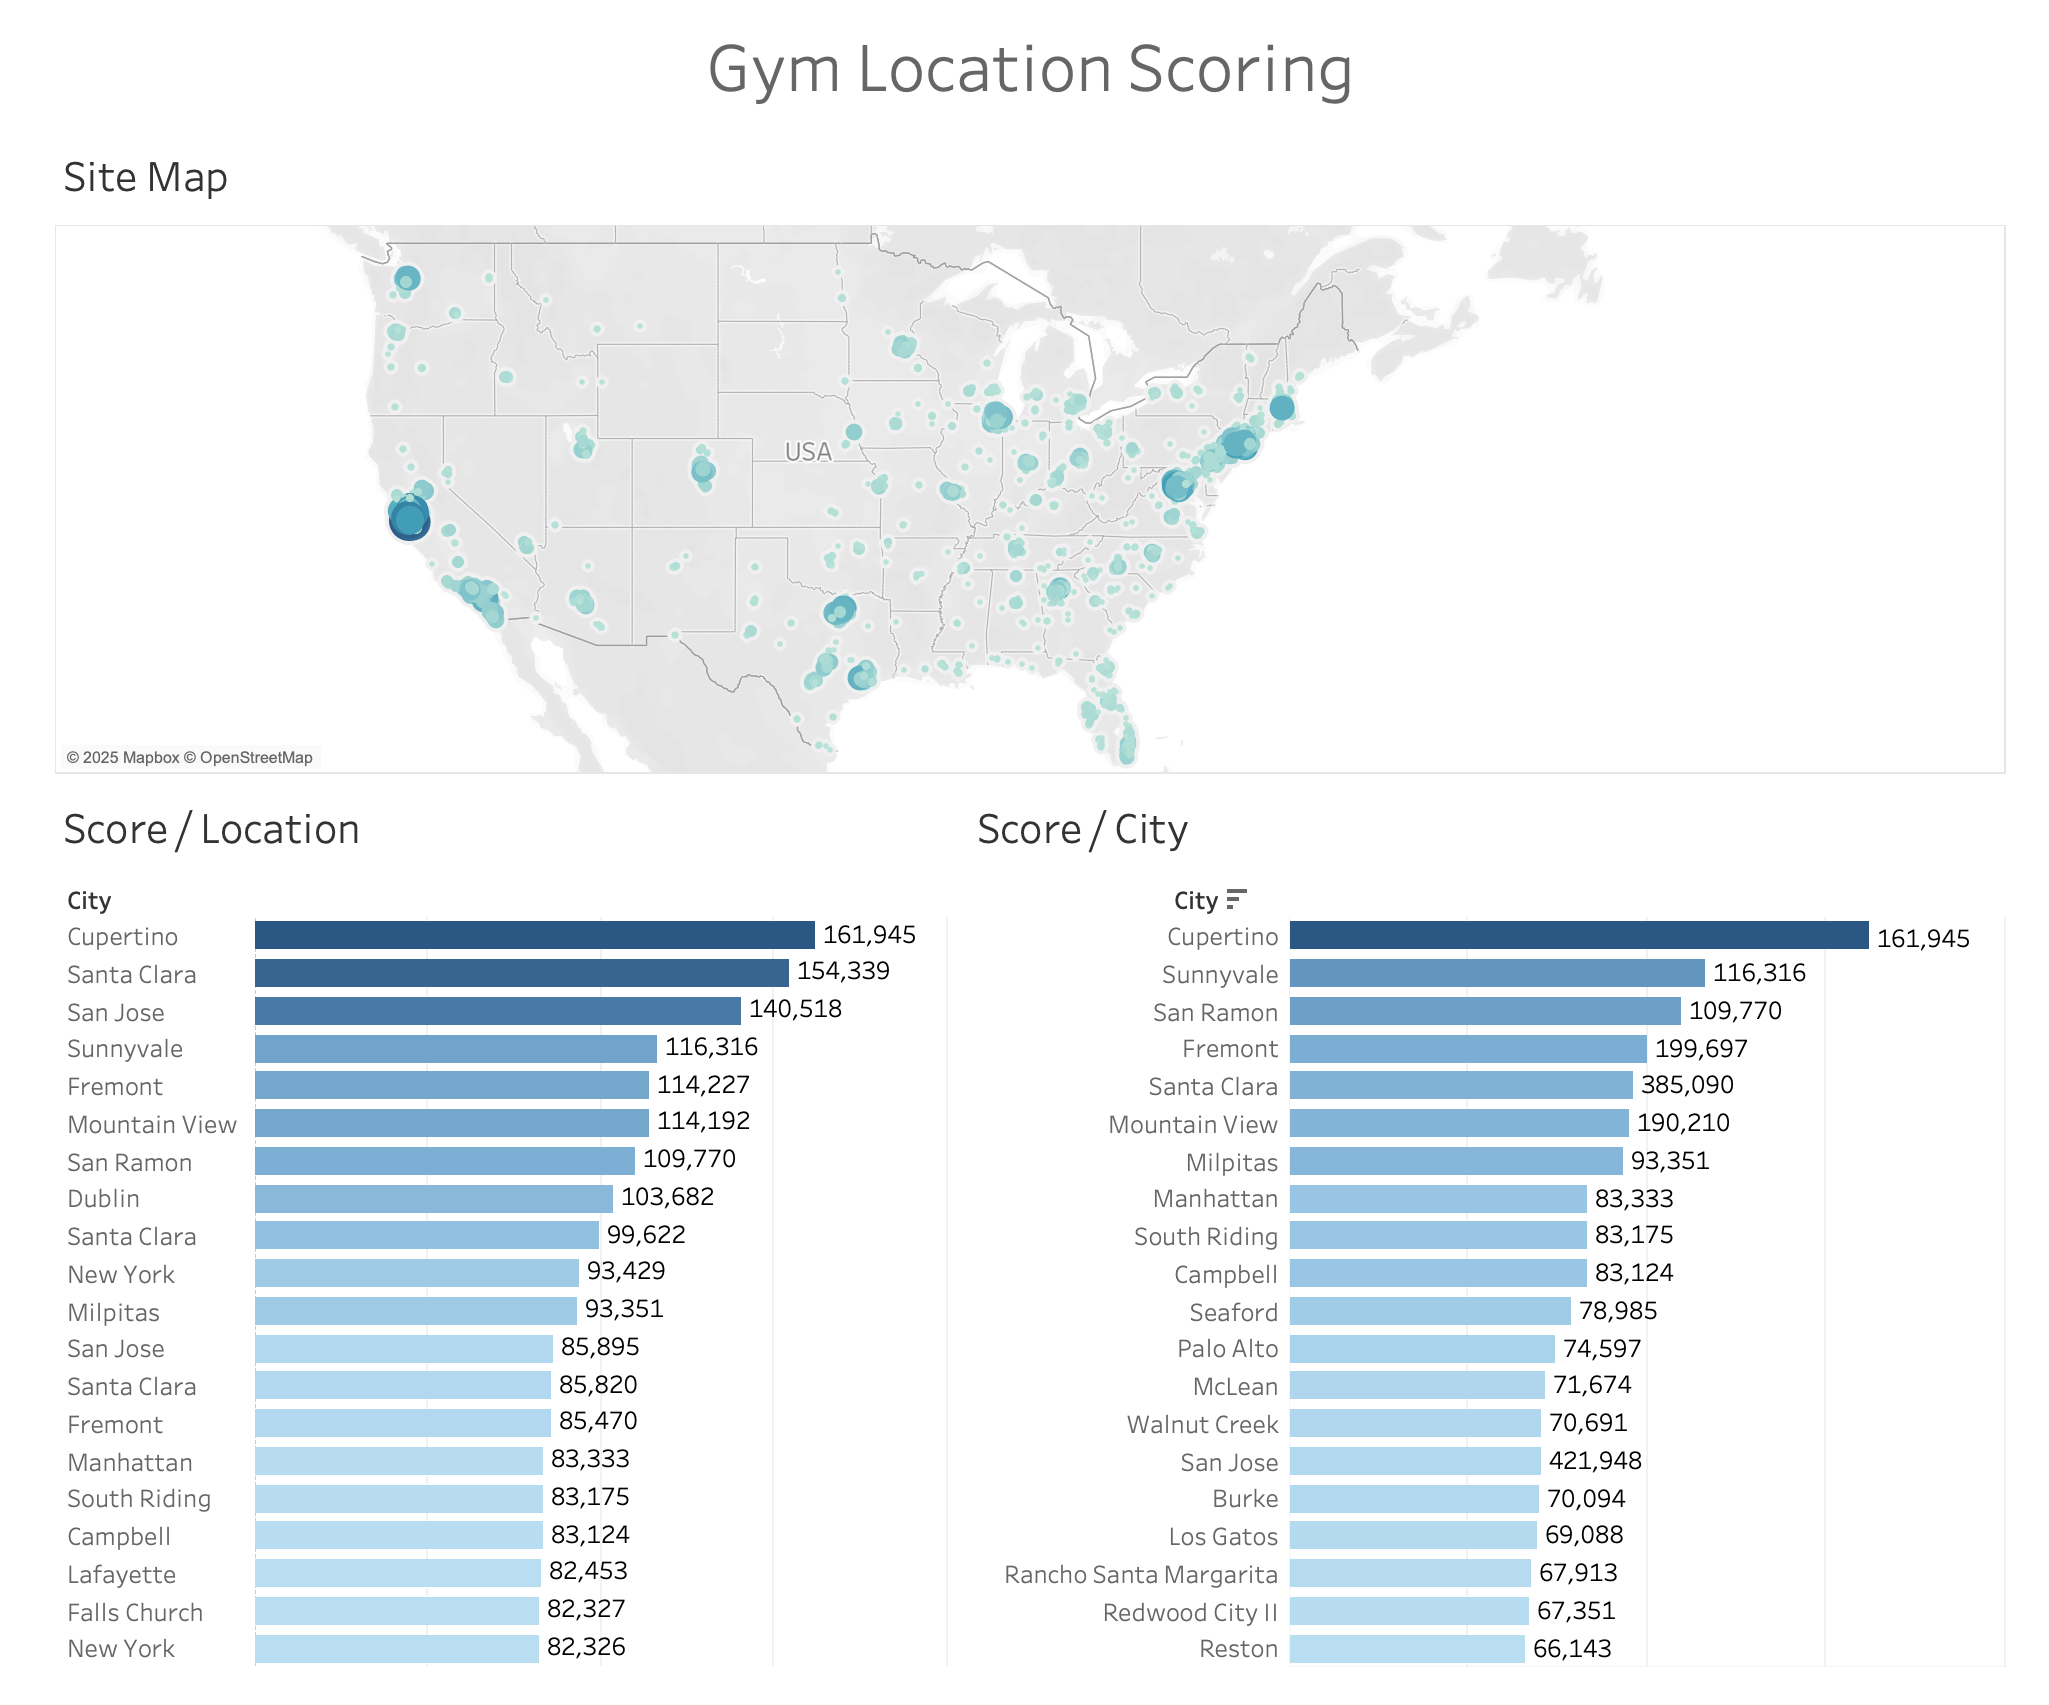

What the dashboard file says about the page in this screenshot:
{"tool":"tableau","page":{"name":"Dashboard 1","canvas":[1000,1600],"ordinal":0},"visuals":[{"type":"text","box":[8,8,984,66]},{"type":"worksheet","title":"Site Map","mark":"Automatic","rows":["latitude"],"cols":["longitude"],"box":[8,74,984,326]},{"type":"worksheet","title":"Score / Location","mark":"Automatic","rows":["id","city"],"cols":["location_score"],"box":[8,400,457,445.7]},{"type":"worksheet","title":"Score / City","mark":"Automatic","rows":["city"],"cols":["location_score"],"box":[465,400,527,445.7]},{"type":"blank","box":[8,845.7,984,746]}]}

Visuals, with their boxes on the page's 1000x1600 design canvas (x1, y1, x2, y2). These are canvas units, not pixel positions in the 2049x1705 screenshot, which may show the page scaled, cropped or inside an application window:
text: bbox(8, 8, 992, 74)
"Site Map" worksheet: bbox(8, 74, 992, 400)
"Score / Location" worksheet: bbox(8, 400, 465, 846)
"Score / City" worksheet: bbox(465, 400, 992, 846)
blank: bbox(8, 846, 992, 1592)
